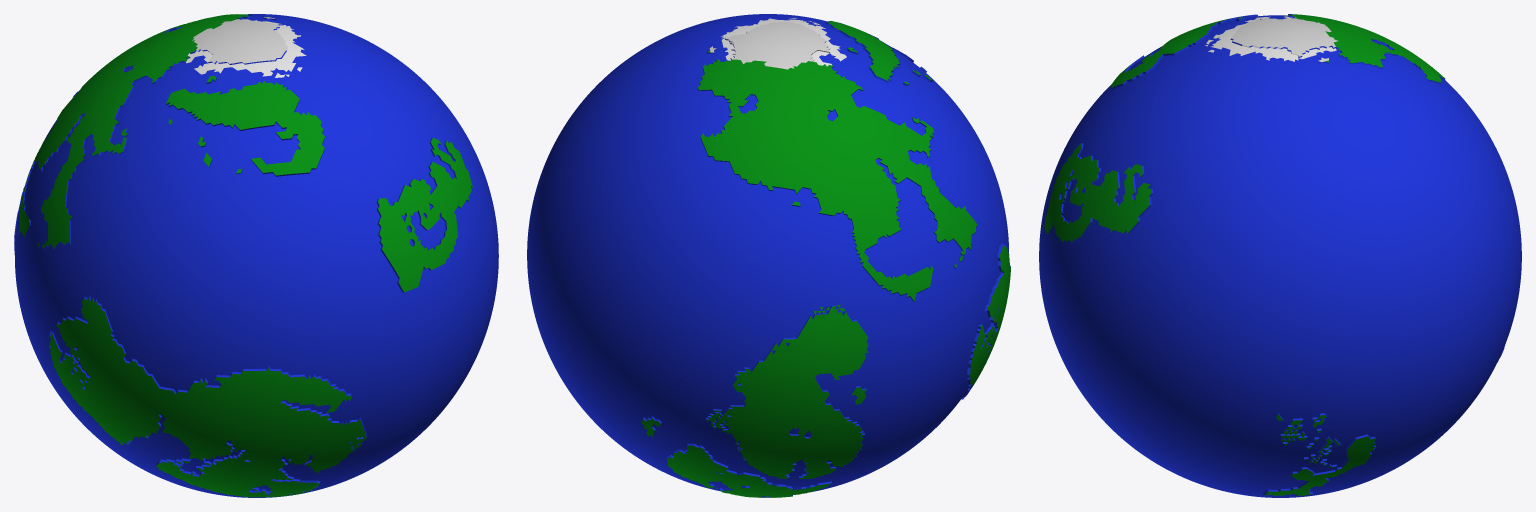
File: Globe.fbx
3 views of the same model, side by side, from view 1: azimuth 30°, elevation 25°; view 2: azimuth 150°, elevation 25°; view 3: azimuth 270°, elevation 25° (orthographic).
Parts seen in each view (by area): view 1: Icosphere, Icosphere.003, Icosphere.006, Icosphere.002, Icosphere.001; view 2: Icosphere, Icosphere.006, Icosphere.004, Icosphere.003, Icosphere.001; view 3: Icosphere, Icosphere.002, Icosphere.006, Icosphere.005, Icosphere.001.
Part boxes in pixels (x1,y1,x2,y2): Icosphere: [14, 14, 498, 497]; Icosphere.003: [49, 297, 366, 497]; Icosphere.006: [19, 14, 286, 249]; Icosphere.002: [378, 137, 472, 292]; Icosphere.001: [166, 76, 324, 175]; Icosphere: [527, 14, 1010, 497]; Icosphere.006: [698, 22, 977, 301]; Icosphere.004: [641, 304, 868, 497]; Icosphere.003: [969, 244, 1010, 389]; Icosphere.001: [827, 21, 932, 84]; Icosphere: [1039, 14, 1521, 497]; Icosphere.002: [1044, 143, 1151, 242]; Icosphere.006: [1231, 14, 1444, 82]; Icosphere.005: [1264, 414, 1375, 495]; Icosphere.001: [1110, 17, 1243, 87].
Size of the model in its own units: 401 by 401 by 400.
